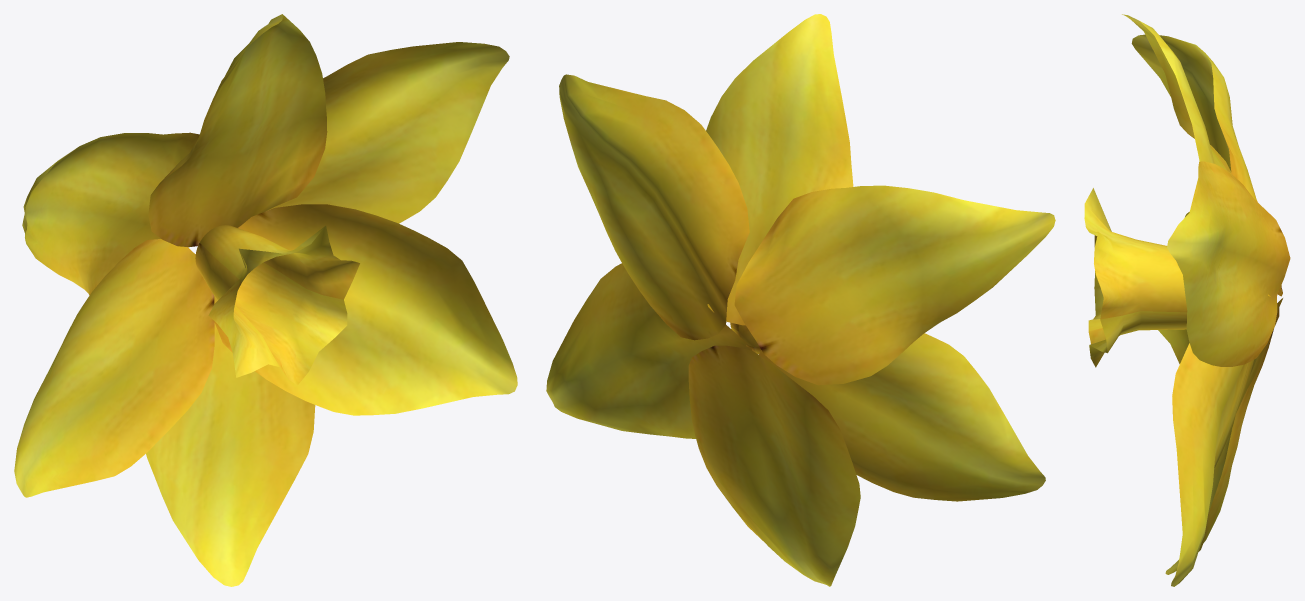
Rendered from daffodil_flower.glb.
3 views of the same model, side by side, from view 1: azimuth 30°, elevation 25°; view 2: azimuth 150°, elevation 25°; view 3: azimuth 270°, elevation 25° (orthographic). The views are drawn at different scales.
Parts seen in each view (by area): view 1: Object_5, Object_6; view 2: Object_5; view 3: Object_5, Object_6.
Part boxes in pixels (x1,y1,x2,y2): Object_5: (14,14,517,586); Object_6: (195,225,359,385); Object_5: (546,14,1055,586); Object_5: (1122,14,1290,586); Object_6: (1084,188,1187,367).
Size of the model in its own units: 0.3567 by 0.3839 by 0.1255.
Materials: 2 (2 with a texture image).
